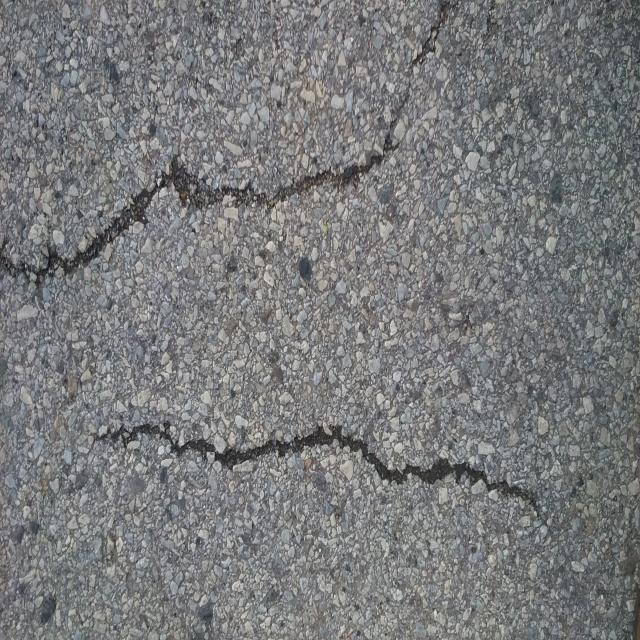transverse: (0, 15, 488, 285), (72, 362, 568, 533)
